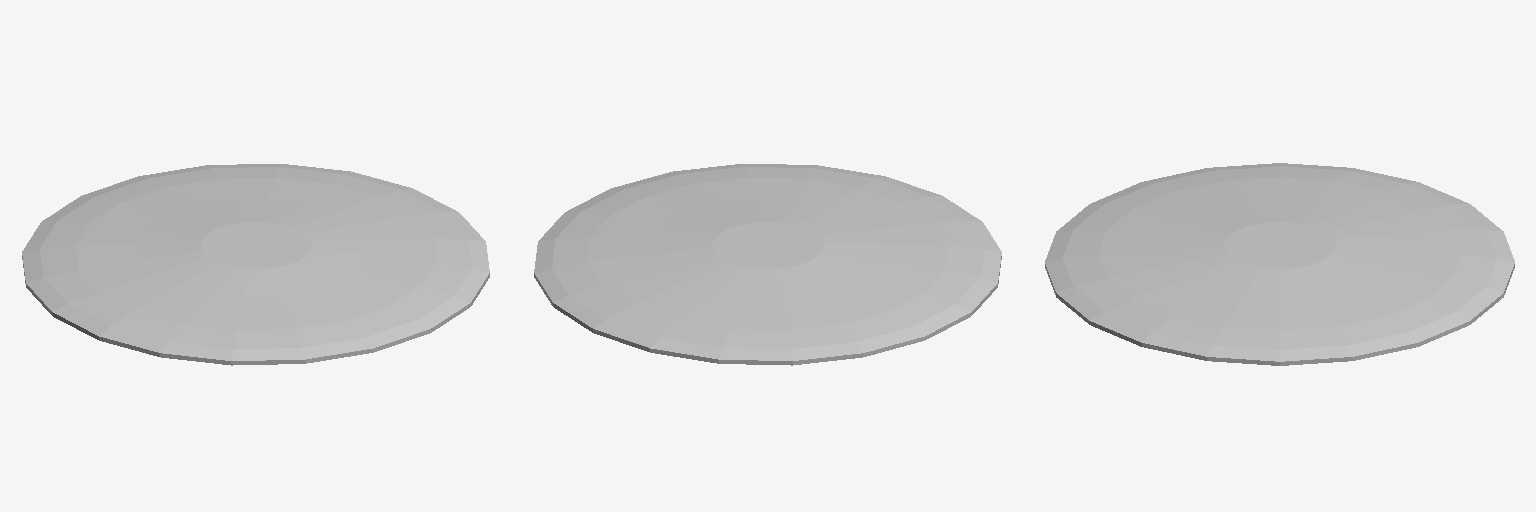
File: bloodpool.obj
3 views of the same model, side by side, from view 1: azimuth 30°, elevation 25°; view 2: azimuth 150°, elevation 25°; view 3: azimuth 270°, elevation 25° (orthographic).
Parts seen in each view (by area): view 1: pCylinder2; view 2: pCylinder2; view 3: pCylinder2.
Boxes of the visible parts, box(x1,y1,x2,y2) form: pCylinder2: box(22, 164, 489, 365); pCylinder2: box(534, 164, 1001, 365); pCylinder2: box(1045, 163, 1514, 365).
Bounding box in the file's own units: 2 × 0.1 × 2.